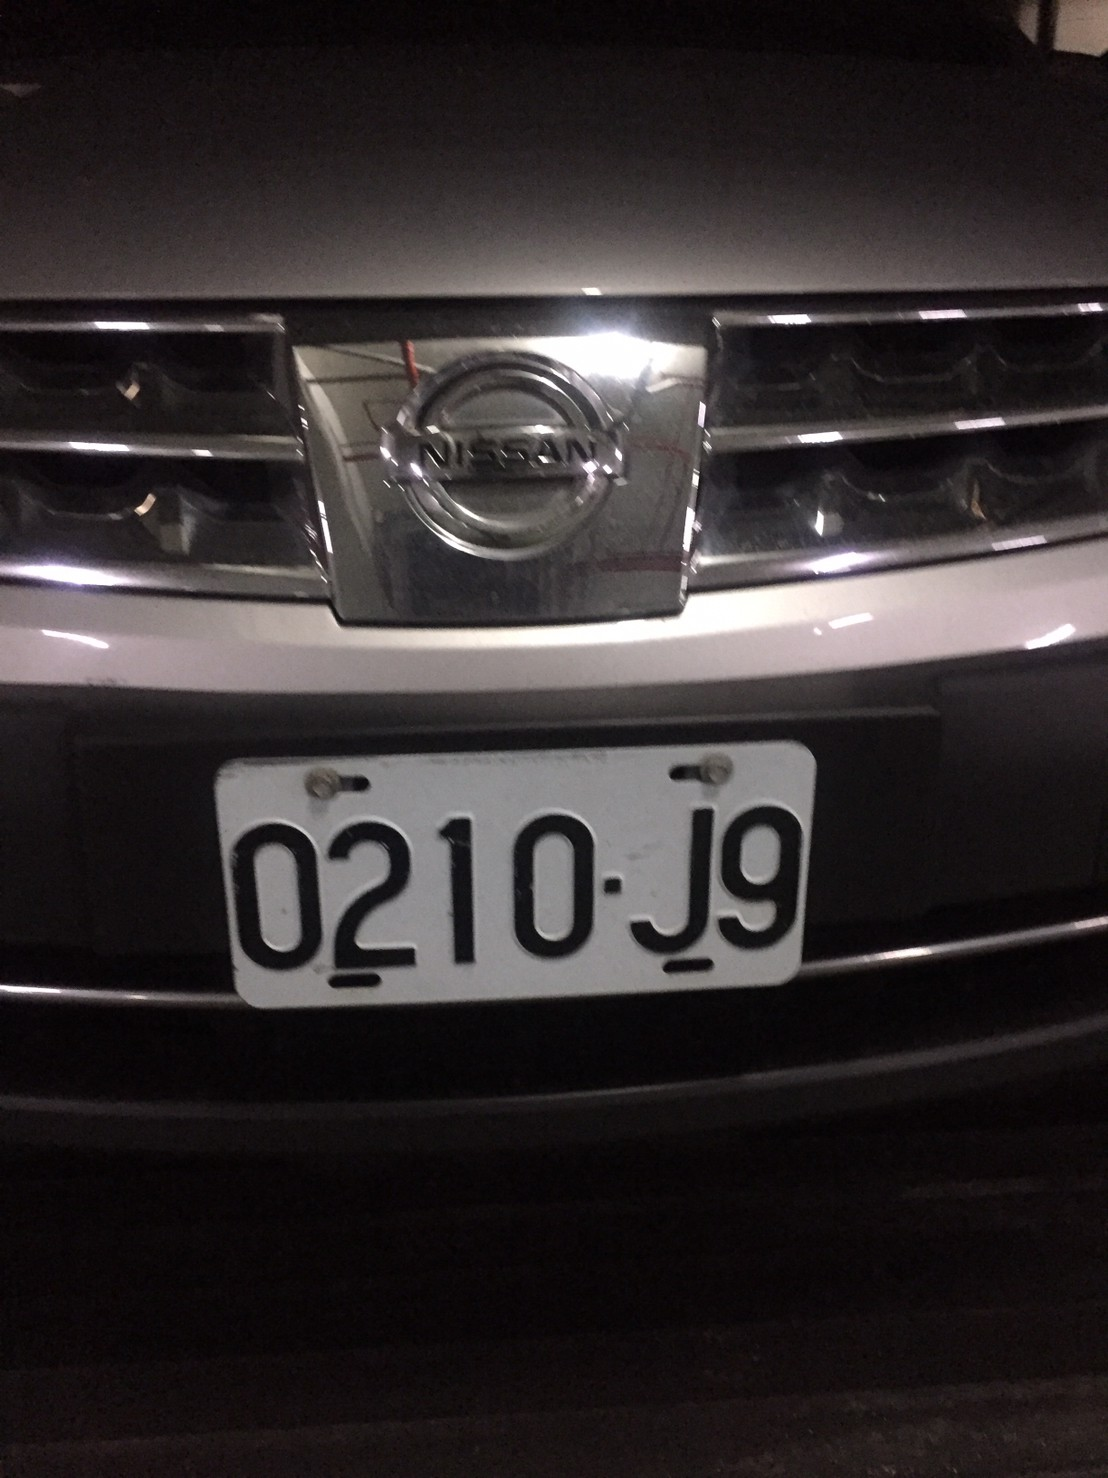LP: (201, 739, 833, 1009)
